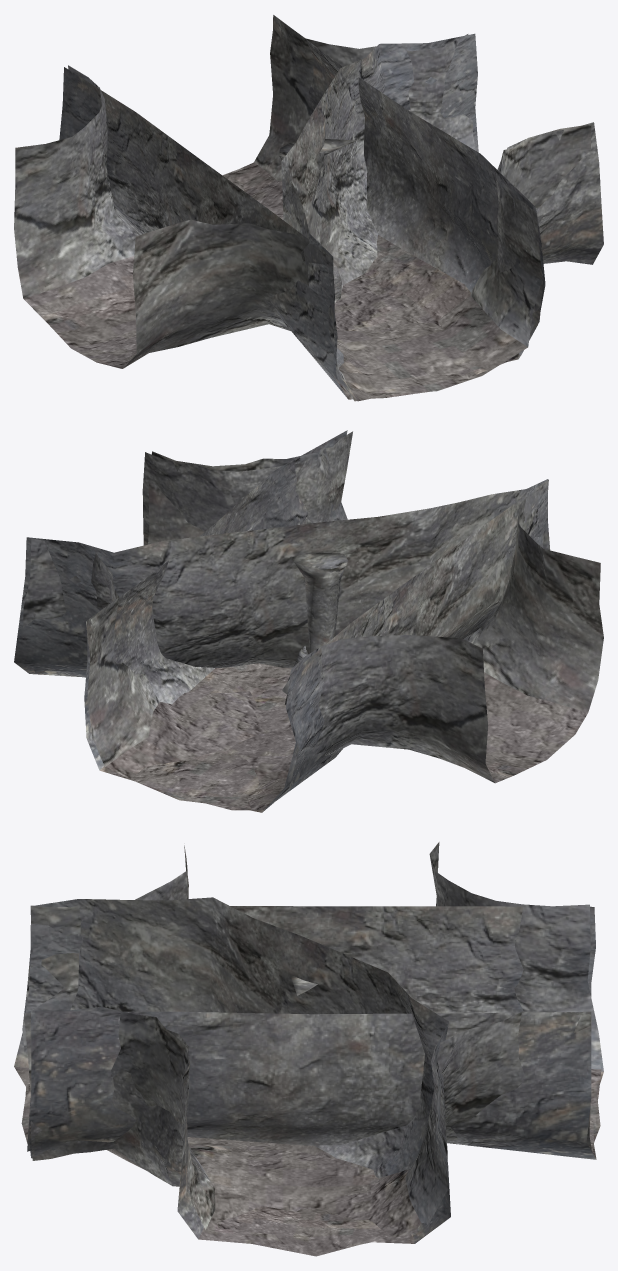
File: Caves.fbx
3 renders of one model, top to bottom at view 1: azimuth 30°, elevation 25°; view 2: azimuth 150°, elevation 25°; view 3: azimuth 270°, elevation 25°, orthographic. The views are drawn at different scales.
Parts seen in each view (by area): view 1: Cave_cross, Cave_2x_straight, Cave_corner; view 2: Cave_cross, Cave_corner, Cave_2x_straight, Stalagmite; view 3: Cave_2x_straight, Cave_corner, Cave_cross.
Boxes of the visible parts, box(x1,y1,x2,y2) form: Cave_cross: box(14, 21, 591, 401); Cave_2x_straight: box(59, 15, 545, 399); Cave_corner: box(281, 33, 603, 401); Cave_cross: box(23, 431, 603, 812); Cave_corner: box(14, 431, 547, 677); Cave_2x_straight: box(84, 430, 548, 810); Stalagmite: box(290, 552, 347, 652); Cave_2x_straight: box(29, 905, 601, 1159); Cave_corner: box(14, 897, 450, 1256); Cave_cross: box(21, 842, 603, 1244).
Bounding box in the file's own units: 18.81 × 7.14 × 18.95.
